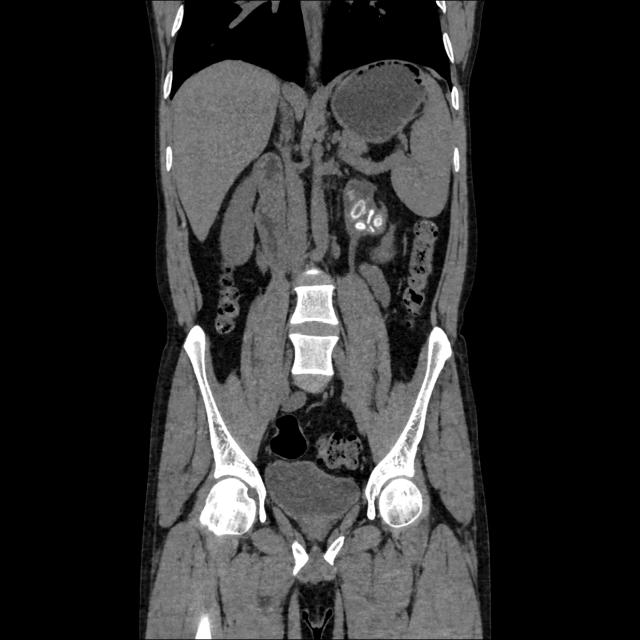kidneystone: (350, 199, 366, 219), (372, 213, 384, 229), (368, 208, 375, 223), (355, 221, 366, 230)
